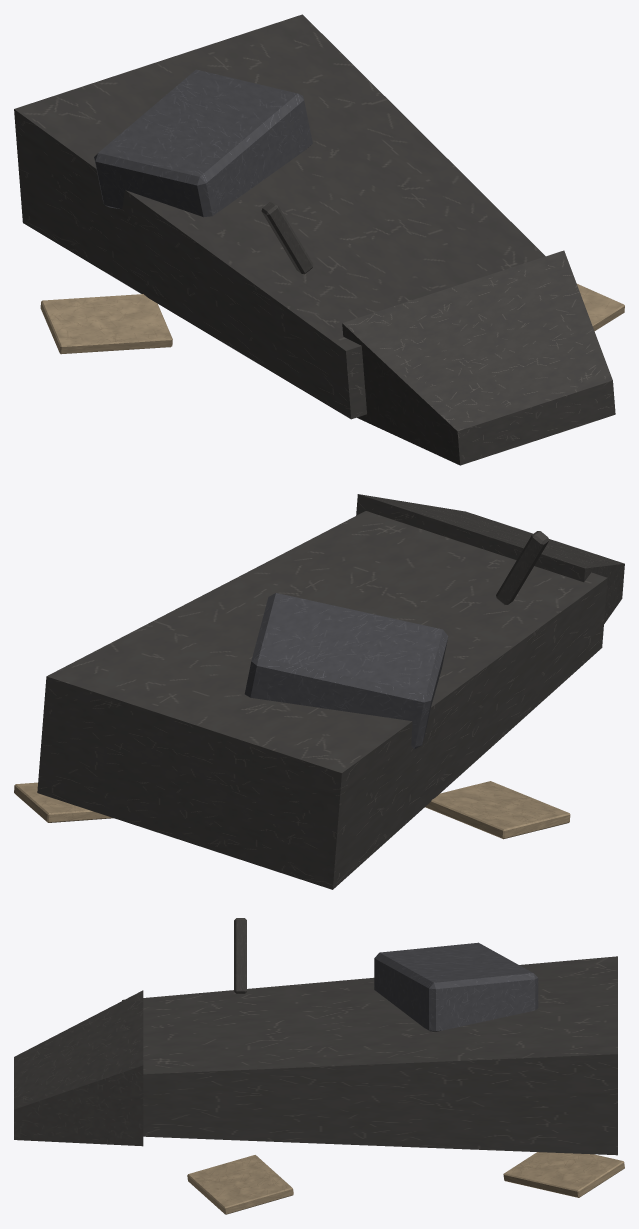
File: prop_wreck_apc.obj
3 renders of one model, top to bottom at view 1: azimuth 30°, elevation 25°; view 2: azimuth 150°, elevation 25°; view 3: azimuth 270°, elevation 25°, orthographic. The views are drawn at different scales.
Visible parts, largest first — view 1: prop_wreck_apc; view 2: prop_wreck_apc; view 3: prop_wreck_apc.
Boxes of the visible parts, left/top/right/bottom form: prop_wreck_apc: left=14, top=14, right=624, bottom=465; prop_wreck_apc: left=14, top=494, right=624, bottom=889; prop_wreck_apc: left=14, top=918, right=624, bottom=1214.
Size of the model in its own units: 4.18 by 1.65 by 5.66.
1 material, 1 textured.
